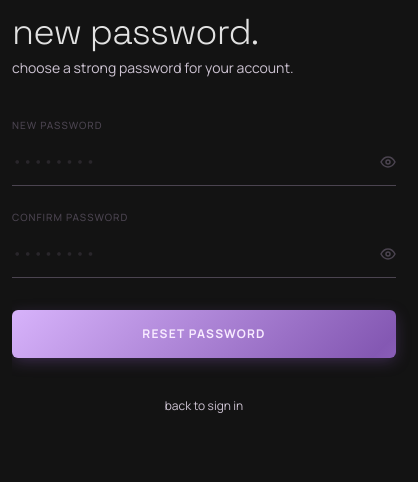
ResetPasswordForm › shows expired message when action returns { error: "expired" }
The width and height of the screenshot is (418, 482).
Type "NewPass1!" into the password field labelled "new password".
click(204, 162); type("NewPass1!")  # box [12,137,396,186]
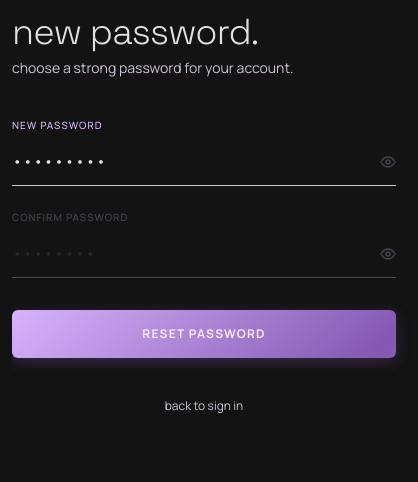
Type "NewPass1!" into the password field labelled "confirm password".
click(204, 254); type("NewPass1!")  # box [12,229,396,278]
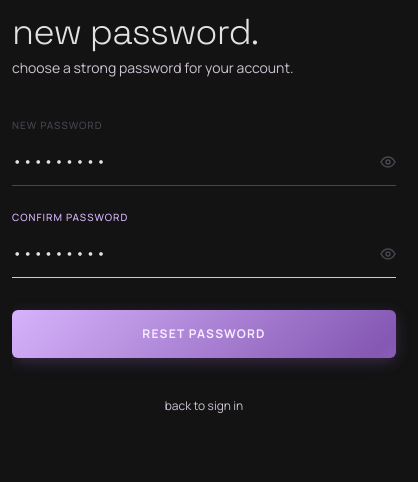
Click the button "reset password".
click(204, 334)  # box [12,310,396,358]
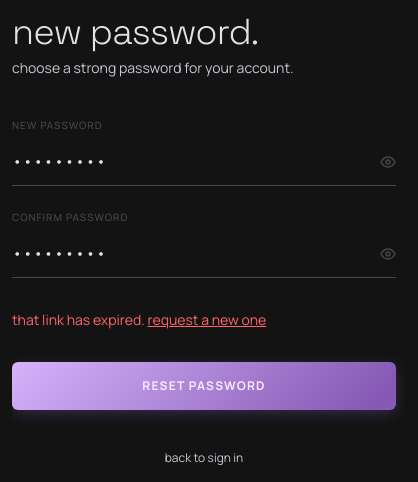
Check: the text "that link has expired. request a new one" is shown, box [12,310,266,329]
